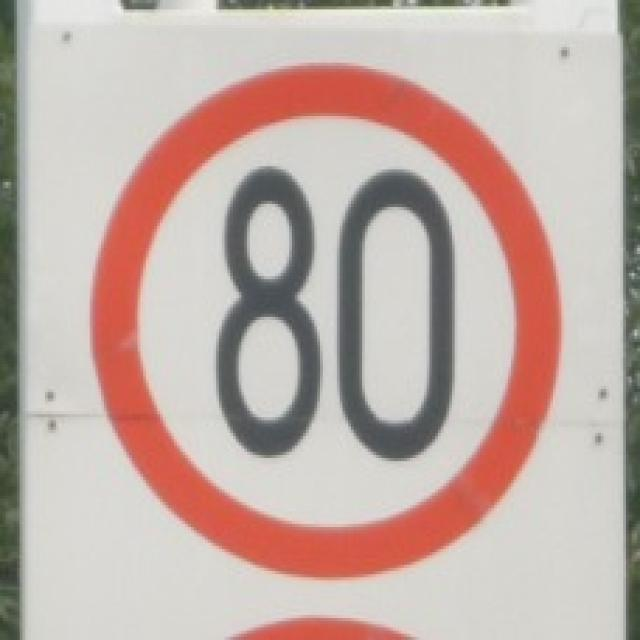Speed Limit -80-: (215, 162, 460, 463)
